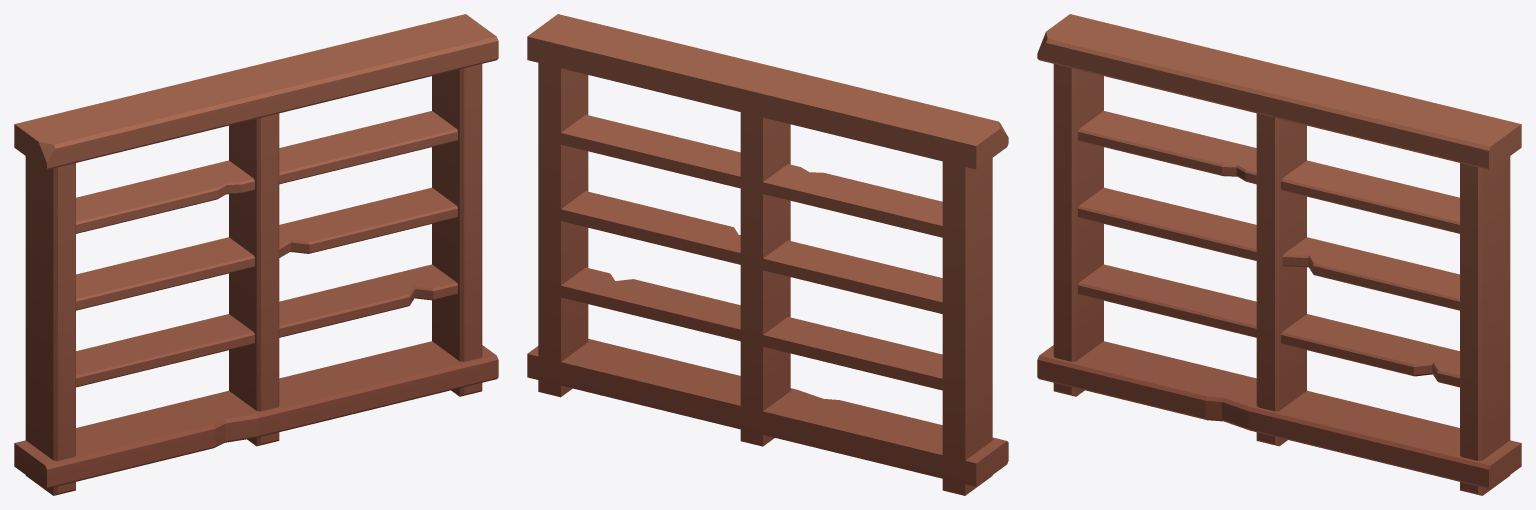
Rendered from bookcase_double.glb.
3 renders of one model, left to right at view 1: azimuth 30°, elevation 25°; view 2: azimuth 150°, elevation 25°; view 3: azimuth 330°, elevation 25°, orthographic.
Parts seen in each view (by area): view 1: bookcase_double; view 2: bookcase_double; view 3: bookcase_double.
Part boxes in pixels (box(x1,y1,x2,y2)): bookcase_double: box(14, 14, 498, 495); bookcase_double: box(527, 14, 1008, 495); bookcase_double: box(1037, 14, 1521, 495).
Bounding box in the file's own units: 4 × 3 × 0.5.
1 material, 1 textured.
